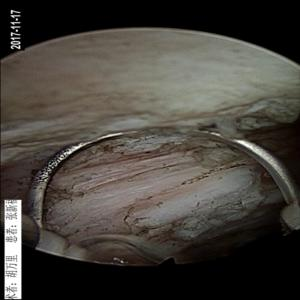film: (33, 153, 266, 249)
